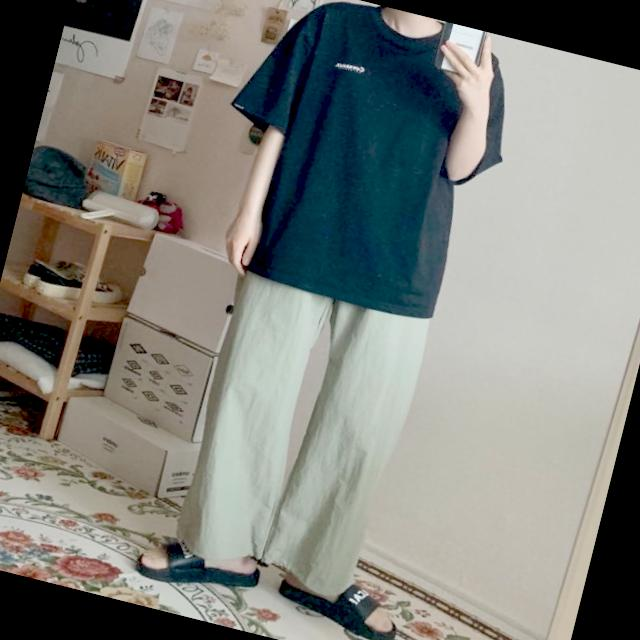cottonpants: (170, 266, 431, 603)
shortsleeve: (188, 0, 532, 334)
